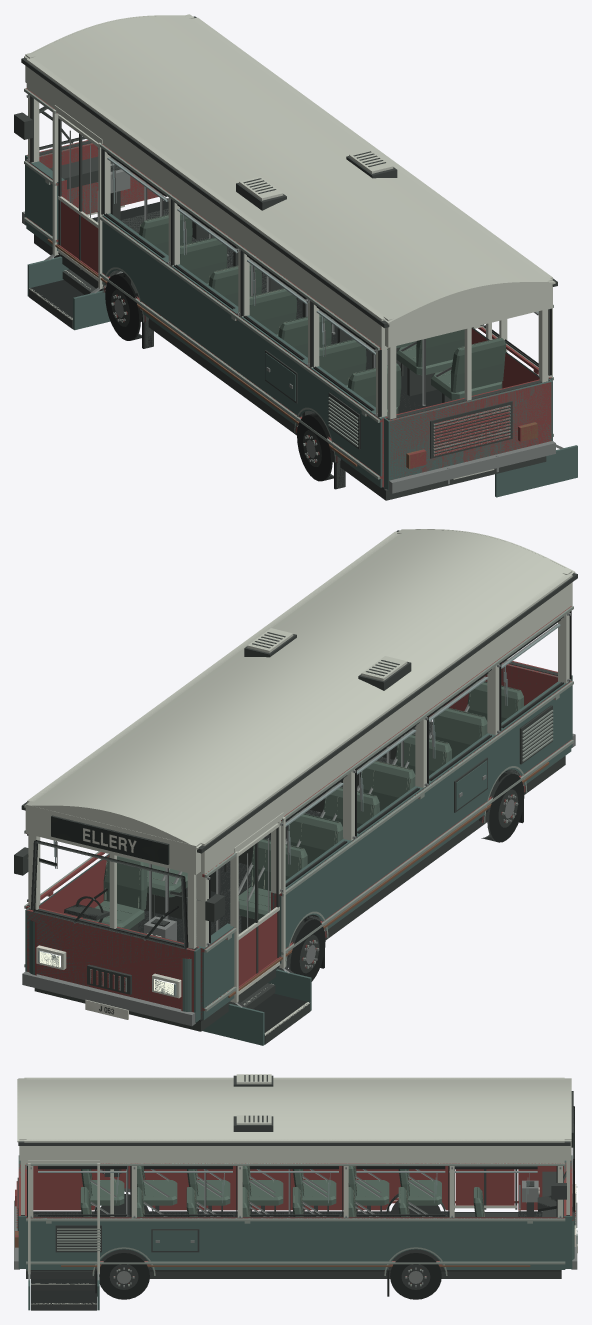
The model's file is bus-refinement.glb.
3 renders of one model, top to bottom at view 1: azimuth 30°, elevation 25°; view 2: azimuth 150°, elevation 25°; view 3: azimuth 270°, elevation 25°, orthographic. The views are drawn at different scales.
Parts seen in each view (by area): view 1: outskirts_bus, ambient_late_bus, outskirts_bus_passage; view 2: outskirts_bus, ambient_late_bus, outskirts_bus_passage; view 3: outskirts_bus, outskirts_bus_passage, ambient_late_bus.
Part boxes in pixels (x1,y1,x2,y2): outskirts_bus: [14, 14, 557, 500]; ambient_late_bus: [16, 14, 556, 499]; outskirts_bus_passage: [26, 18, 577, 498]; outskirts_bus: [14, 529, 577, 1031]; ambient_late_bus: [16, 530, 575, 1031]; outskirts_bus_passage: [25, 532, 572, 1045]; outskirts_bus: [14, 1074, 577, 1299]; outskirts_bus_passage: [24, 1077, 565, 1310]; ambient_late_bus: [14, 1075, 577, 1285].
Bounding box in the file's own units: 3.32 × 3.11 × 9.37.
Materials: 17 (2 with a texture image).
